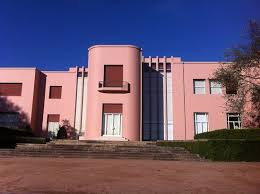serralves: (0, 44, 259, 141)
